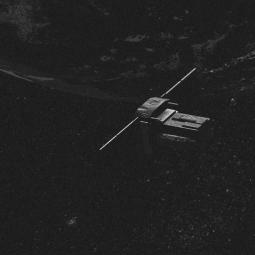soho: (126, 87, 226, 163)
